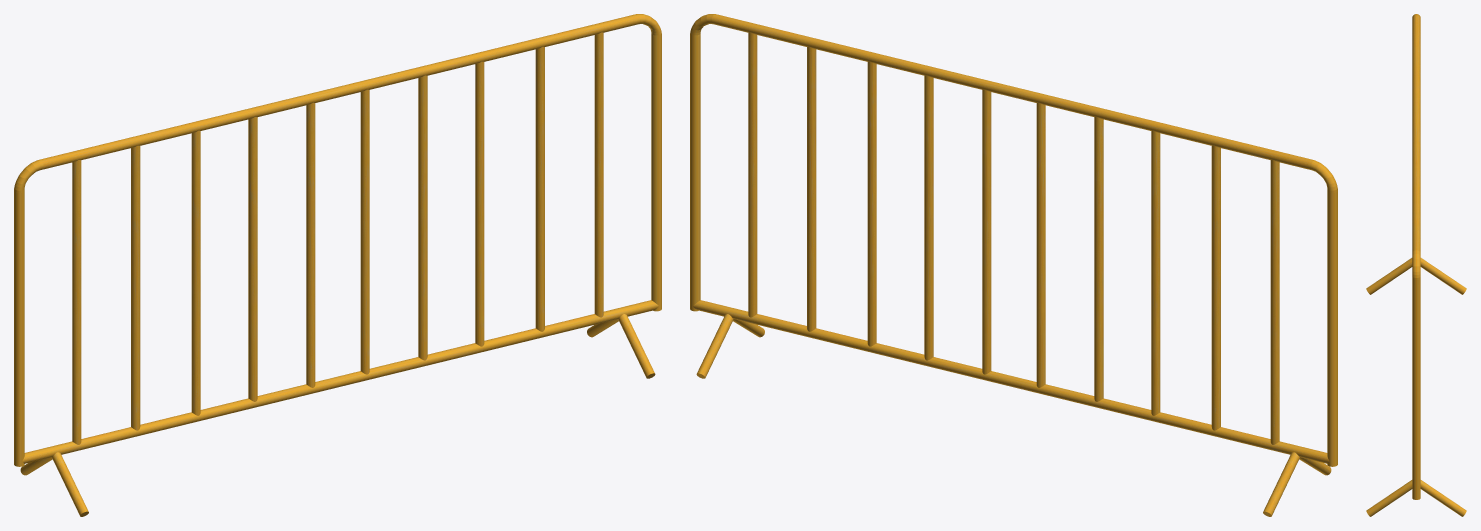
Rendered from vallaAmarilla.fbx.
3 views of the same model, side by side, from view 1: azimuth 30°, elevation 25°; view 2: azimuth 150°, elevation 25°; view 3: azimuth 270°, elevation 25° (orthographic). The views are drawn at different scales.
Visible parts, largest first — view 1: Cylinder.001; view 2: Cylinder.001; view 3: Cylinder.001.
Boxes of the visible parts, x1,y1,x2,y2 form: Cylinder.001: (14, 14, 661, 516); Cylinder.001: (690, 14, 1337, 516); Cylinder.001: (1366, 14, 1466, 516).
Size of the model in its own units: 456 by 229 by 76.3.
